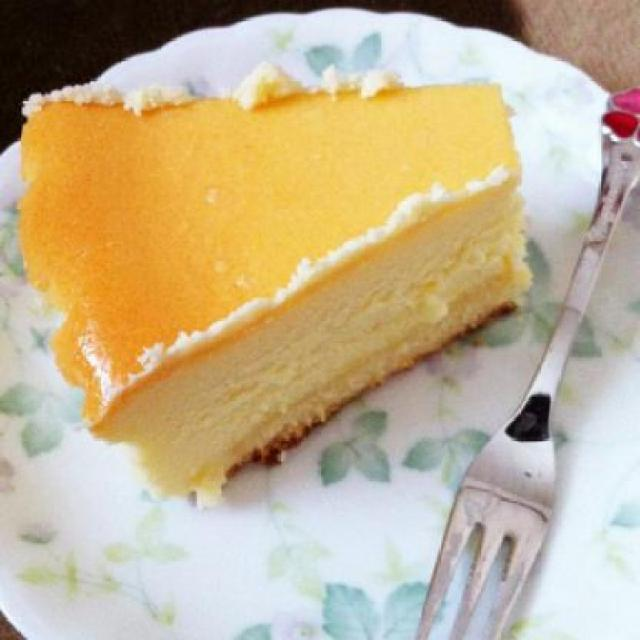Rare cheese cake: (13, 53, 561, 501)
